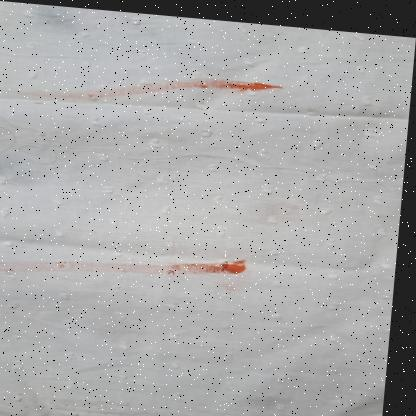spot: (5, 67, 290, 99), (0, 247, 259, 275), (219, 272, 243, 290)
